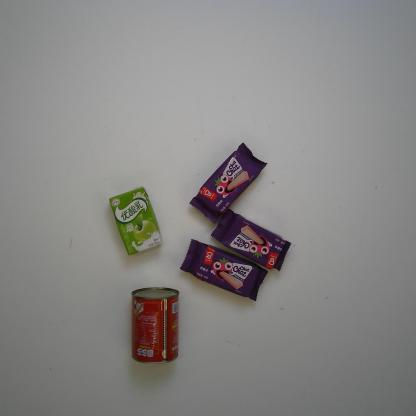Canned Food: (129, 284, 180, 365)
Dessert: (188, 142, 269, 225), (179, 238, 270, 303), (208, 206, 292, 272)
Milk: (107, 186, 164, 257)
